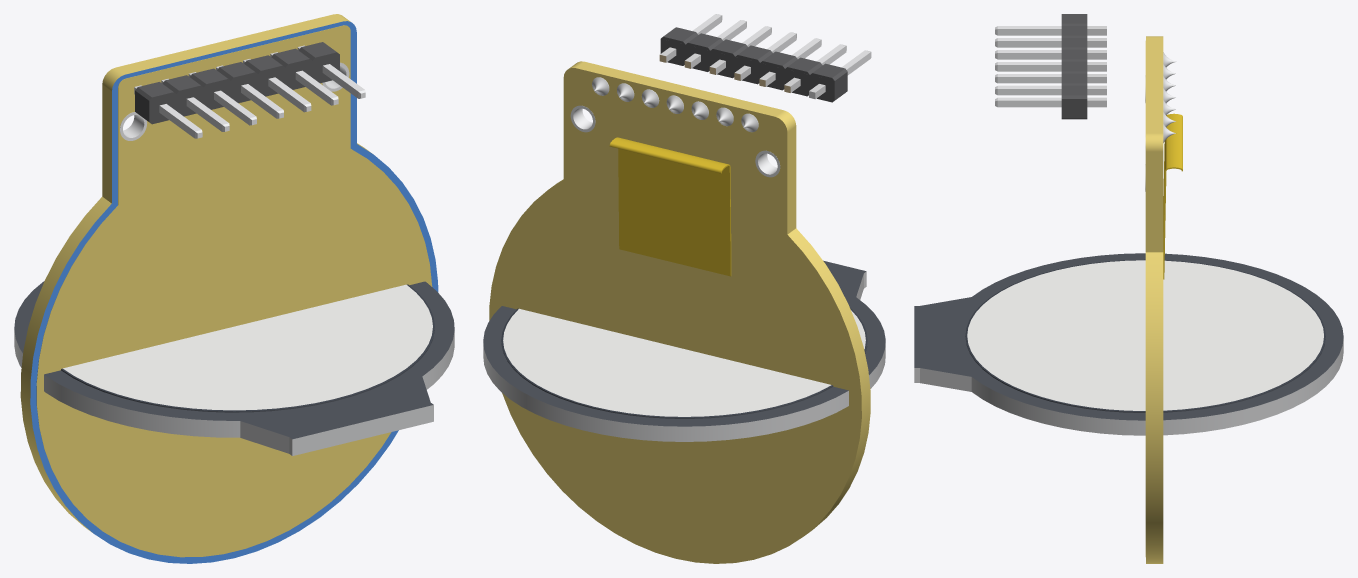
Rendered from gc9a01-display.glb.
3 renders of one model, left to right at view 1: azimuth 30°, elevation 25°; view 2: azimuth 150°, elevation 25°; view 3: azimuth 270°, elevation 25°, orthographic. The views are drawn at different scales.
Visible parts, largest first — view 1: gc9a01-display; view 2: gc9a01-display; view 3: gc9a01-display.
Boxes of the visible parts, x1,y1,x2,y2 form: gc9a01-display: [14, 14, 454, 563]; gc9a01-display: [483, 14, 885, 563]; gc9a01-display: [914, 14, 1343, 563].
Bounding box in the file's own units: 3.81 × 4.7 × 3.86.
